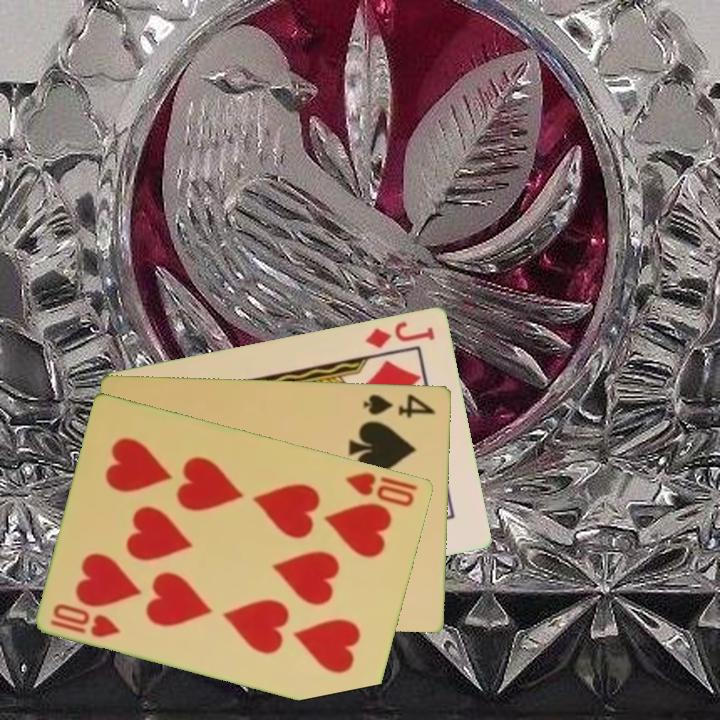10h: (342, 468, 421, 510), (47, 599, 124, 640)
4s: (360, 390, 439, 421)
Jd: (362, 317, 438, 351)
